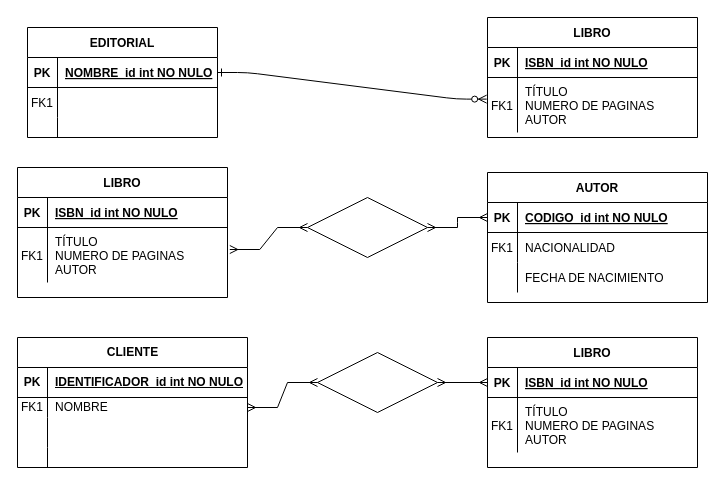
The diagram is 725 pixels wide and 485 high, and some of its shapes have lost their labels. Each missing label, with the centre of its shape:
"COMPRA" goes at pixel 377 382.
"ESCRIBE" goes at pixel 367 227.
